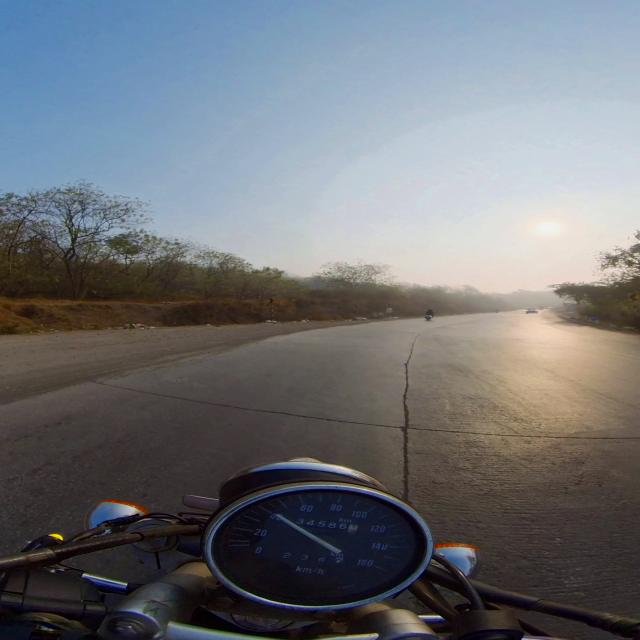car: (526, 308, 538, 313)
motorcycle: (0, 459, 639, 639)
